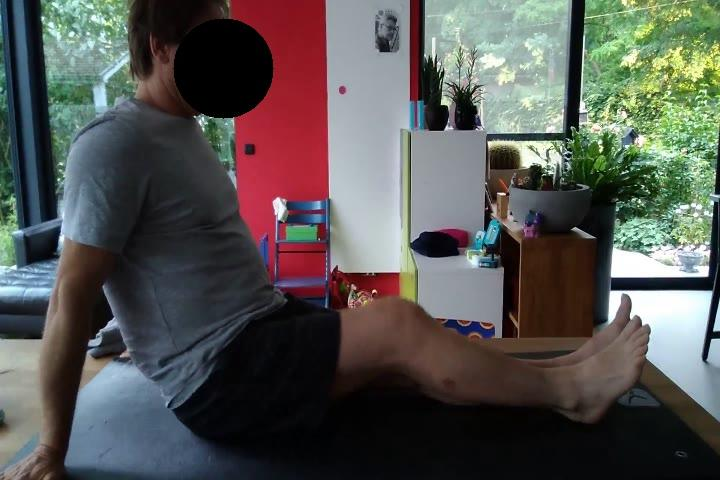lower_body: (173, 295, 651, 439)
